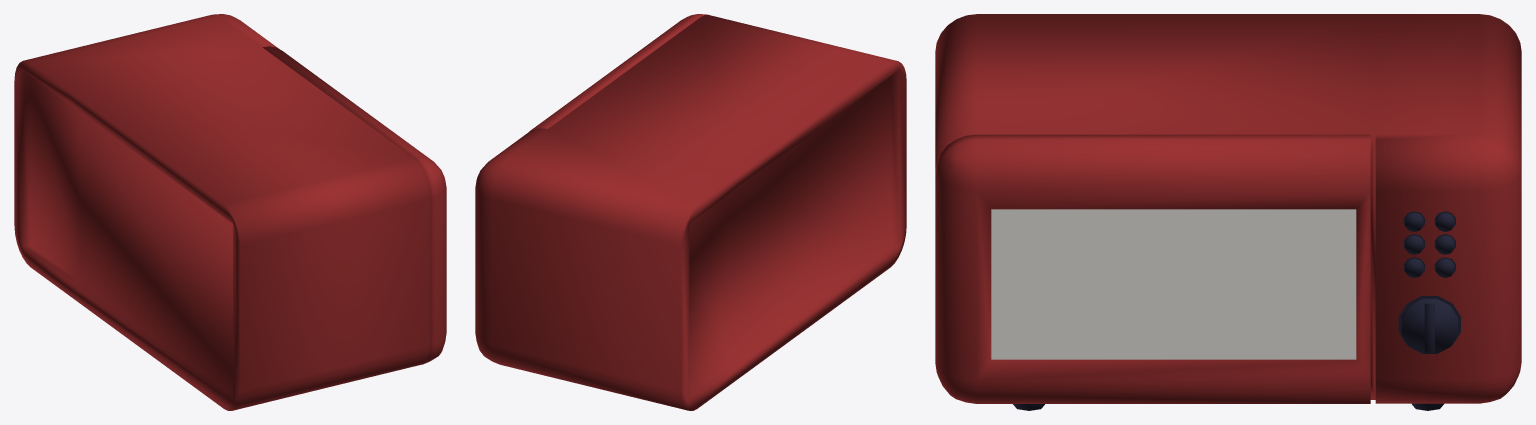
File: микроволновка.fbx
3 views of the same model, side by side, from view 1: azimuth 30°, elevation 25°; view 2: azimuth 150°, elevation 25°; view 3: azimuth 270°, elevation 25° (orthographic). The views are drawn at different scales.
Visible parts, largest first — view 1: Microwave.B; view 2: Microwave.B; view 3: Microwave.B.
Boxes of the visible parts, left/top/right/bottom form: Microwave.B: left=14, top=14, right=446, bottom=410; Microwave.B: left=475, top=14, right=906, bottom=410; Microwave.B: left=935, top=14, right=1521, bottom=410.
Bounding box in the file's own units: 38.85 × 35.62 × 66.79.
